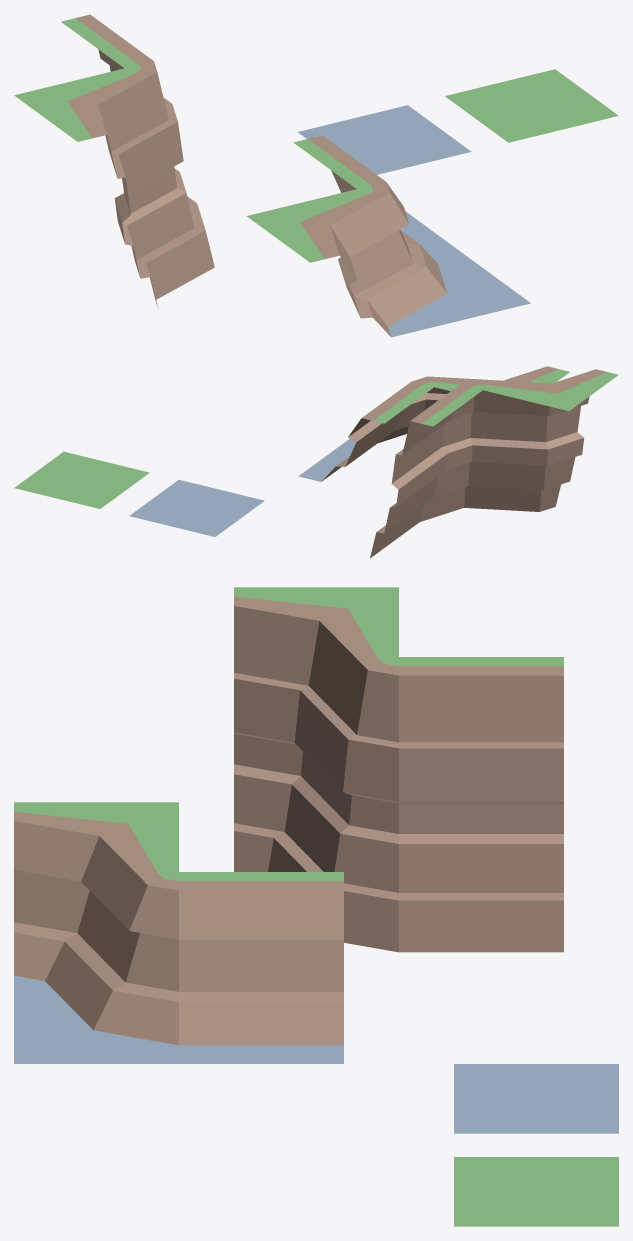
File: grassland_shapes.fbx
The picture shows the model from 3 angles, top to bottom: view 1: azimuth 30°, elevation 25°; view 2: azimuth 150°, elevation 25°; view 3: azimuth 270°, elevation 25°; orthographic projection. The views are drawn at different scales.
Visible parts, largest first — view 1: OutlineConcave, OutlineConcave.001, OutlineConcave.003, OutlineConvex, OutlineFloor, OutlineFloor.001, OutlineConcave.002, OutlineStraight; view 2: OutlineConcave, OutlineConvex, OutlineStraight, OutlineFloor, OutlineFloor.001, OutlineConcave.002, OutlineConcave.003, OutlineConcave.001; view 3: OutlineStraight, OutlineConcave.002, OutlineConcave, OutlineConcave.001, OutlineConcave.003, OutlineConvex, OutlineFloor, OutlineFloor.001.
Boxes of the visible parts, left/top/right/bottom form: OutlineConcave: left=14, top=68, right=171, bottom=308; OutlineConcave.001: left=246, top=189, right=420, bottom=337; OutlineConcave.003: left=357, top=182, right=530, bottom=329; OutlineConvex: left=125, top=61, right=214, bottom=291; OutlineFloor: left=445, top=69, right=618, bottom=142; OutlineFloor.001: left=297, top=105, right=471, bottom=174; OutlineConcave.002: left=293, top=135, right=466, bottom=263; OutlineStraight: left=61, top=14, right=196, bottom=204; OutlineConcave: left=483, top=369, right=618, bottom=511; OutlineConvex: left=420, top=379, right=519, bottom=521; OutlineStraight: left=370, top=384, right=482, bottom=558; OutlineFloor: left=14, top=451, right=149, bottom=508; OutlineFloor.001: left=129, top=480, right=264, bottom=536; OutlineConcave.002: left=298, top=381, right=433, bottom=481; OutlineConcave.003: left=348, top=376, right=450, bottom=443; OutlineConcave.001: left=435, top=366, right=569, bottom=391; OutlineStraight: left=399, top=657, right=563, bottom=952; OutlineConcave.002: left=179, top=872, right=343, bottom=1063; OutlineConcave: left=234, top=587, right=398, bottom=871; OutlineConcave.001: left=14, top=802, right=178, bottom=994; OutlineConcave.003: left=14, top=872, right=178, bottom=1063; OutlineConvex: left=286, top=657, right=398, bottom=952; OutlineFloor: left=454, top=1157, right=618, bottom=1226; OutlineFloor.001: left=454, top=1064, right=618, bottom=1133.
Bounding box in the file's own units: 850 × 245 × 550.
